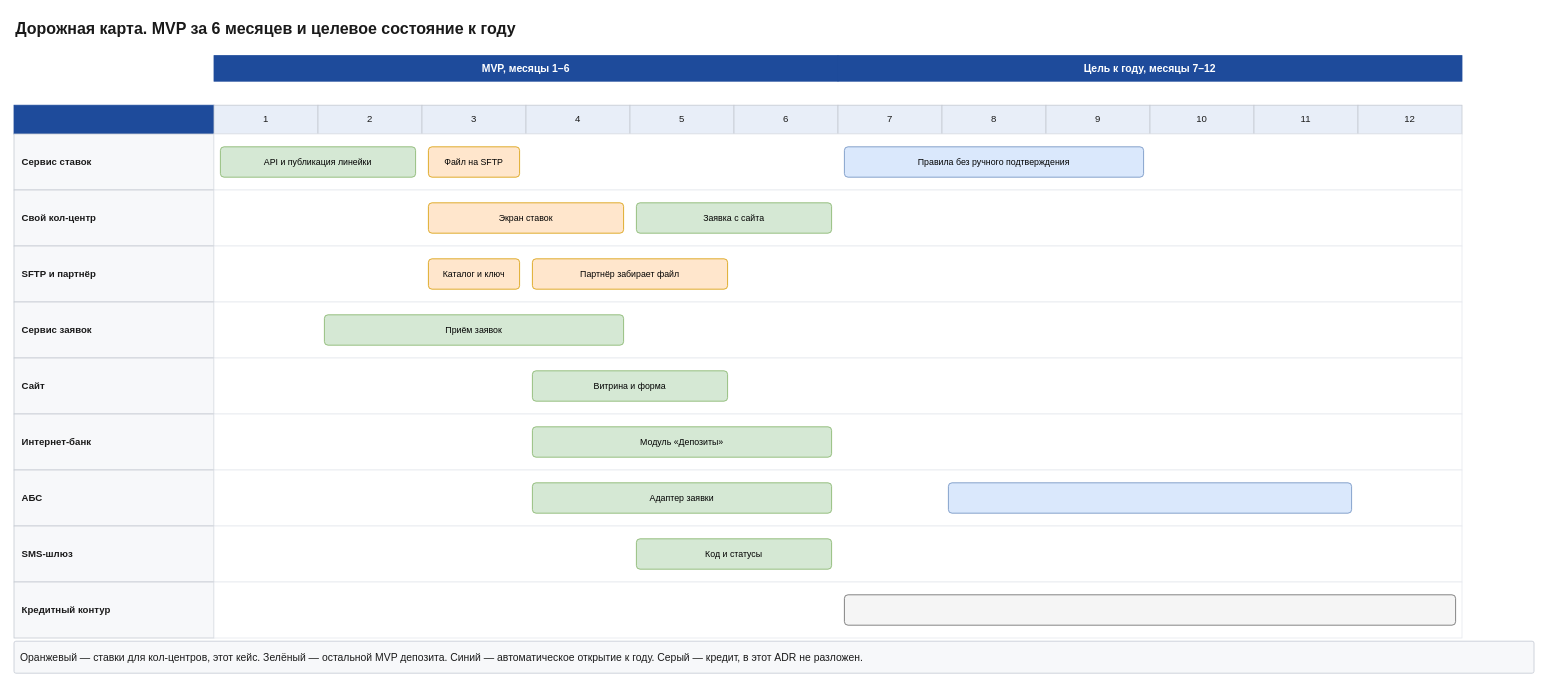
The diagram is 1548 pixels wide and 687 high, and some of its shapes have lost their labels. The box of each missing label's shape, as (x1, y1, x2, y2) in pixels:
Заявка на кредит, отдельное решение: (844, 594, 1456, 625)
Открытие без бэк-офиса: (948, 482, 1352, 513)
Система: (13, 104, 214, 134)
